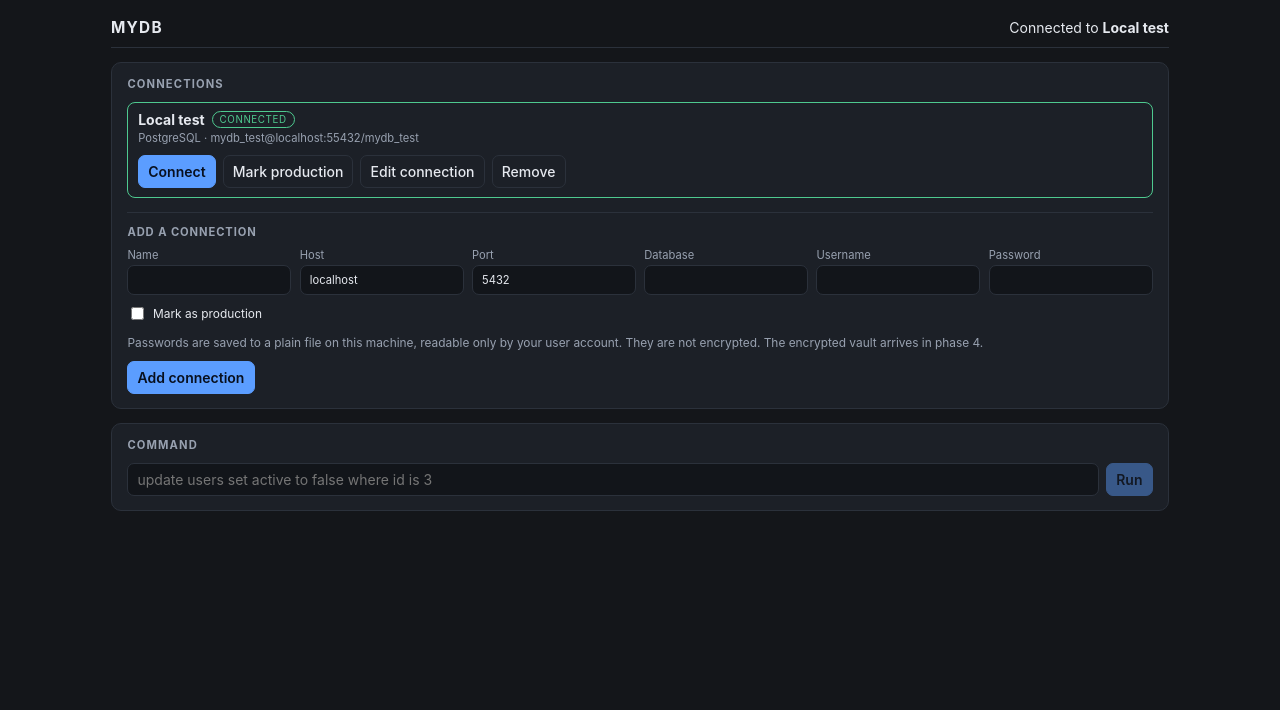
the confirmation loop › an insert says the record will be created, not affected
The width and height of the screenshot is (1280, 710).
Expected: the text "Connected to Local test" is shown, [1009, 18, 1169, 36]
In the field named "Command": [613, 479] box [127, 463, 1099, 496], type "add a user with email is z@example.com"
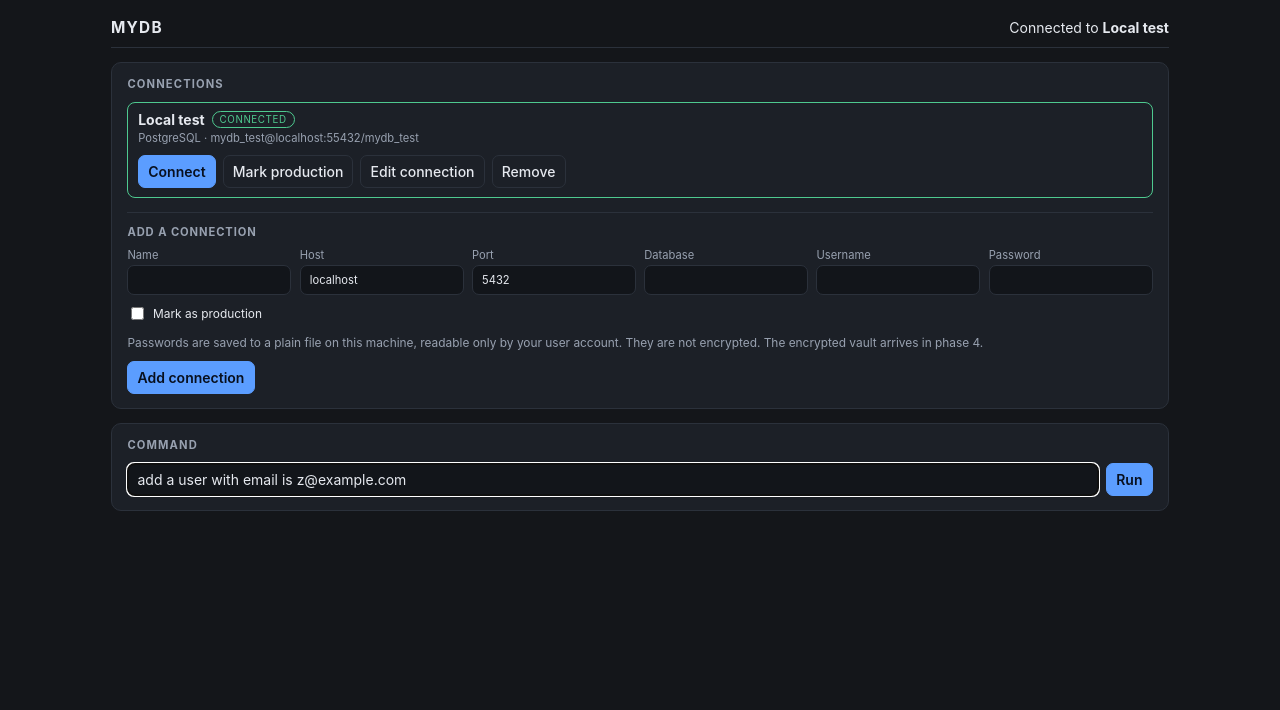
Click the button "Run": [1129, 479] box [1106, 463, 1153, 496]
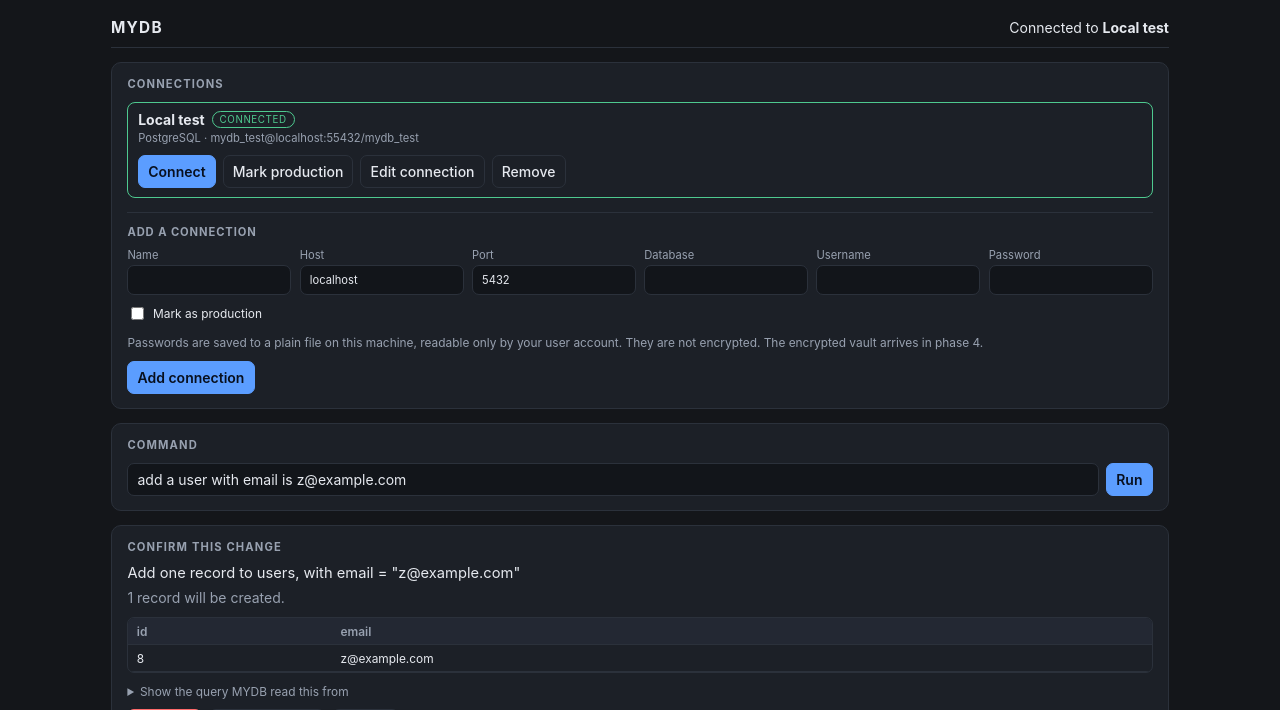
Expected: the text "1 record will be created." is shown, [127, 589, 285, 606]
